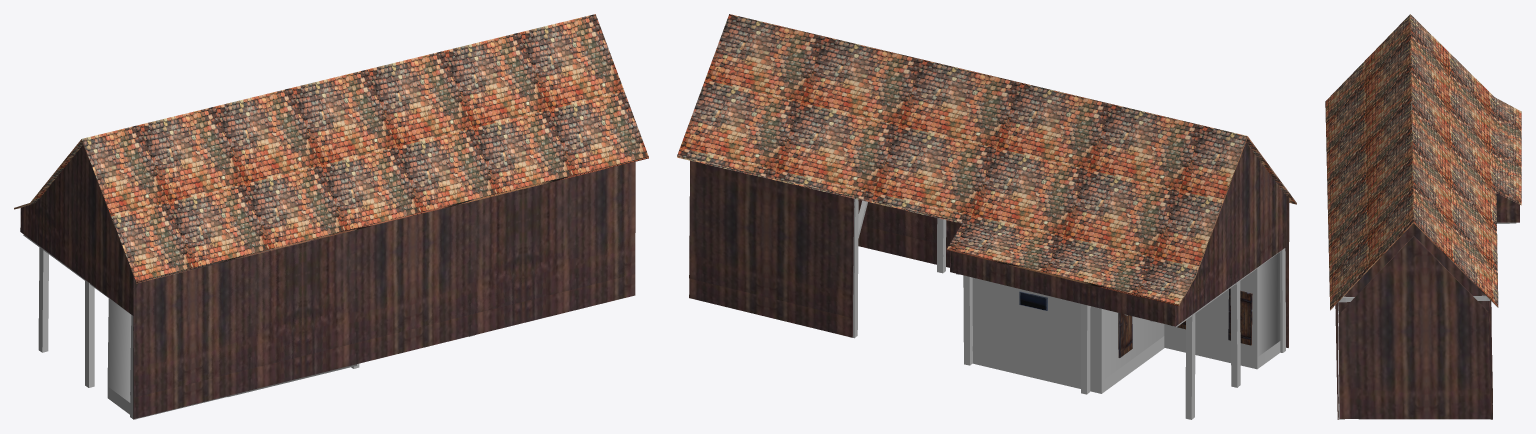
Rendered from SuraFermaHambar.fbx.
3 views of the same model, side by side, from view 1: azimuth 30°, elevation 25°; view 2: azimuth 150°, elevation 25°; view 3: azimuth 270°, elevation 25° (orthographic). The views are drawn at different scales.
Parts seen in each view (by area): view 1: Cube.051, Cube.058, Cube.053, Cube.050, Cube.389, Cube.499; view 2: Cube.052, Cube.448, Cube.053, Cube.507, Cube.050, Cube.058, Cube.499, Cube.389, Cube.388, Cube.010, Cube.459, Cube.390 (+3 smaller); view 3: Cube.720, Cube.052, Cube.051, Cube.053, Cube.448, Cube.058.
Part boxes in pixels (x1=…): Cube.051: x1=81, y1=14, x2=648, y2=283; Cube.058: x1=133, y1=162, x2=635, y2=418; Cube.053: x1=20, y1=145, x2=133, y2=315; Cube.050: x1=107, y1=298, x2=227, y2=417; Cube.389: x1=38, y1=246, x2=48, y2=352; Cube.499: x1=85, y1=280, x2=94, y2=387; Cube.052: x1=677, y1=14, x2=1247, y2=306; Cube.448: x1=689, y1=160, x2=854, y2=337; Cube.053: x1=950, y1=143, x2=1286, y2=326; Cube.507: x1=972, y1=277, x2=1164, y2=393; Cube.050: x1=1164, y1=252, x2=1280, y2=369; Cube.058: x1=858, y1=196, x2=1289, y2=347; Cube.499: x1=1230, y1=280, x2=1240, y2=387; Cube.389: x1=1185, y1=313, x2=1195, y2=419; Cube.388: x1=1081, y1=304, x2=1090, y2=394; Cube.010: x1=1228, y1=288, x2=1252, y2=345; Cube.459: x1=849, y1=199, x2=858, y2=338; Cube.390: x1=963, y1=275, x2=972, y2=348; Cube.720: x1=1338, y1=223, x2=1490, y2=419; Cube.052: x1=1410, y1=14, x2=1521, y2=307; Cube.051: x1=1325, y1=14, x2=1413, y2=310; Cube.053: x1=1410, y1=45, x2=1519, y2=222; Cube.448: x1=1488, y1=300, x2=1492, y2=419; Cube.058: x1=1335, y1=303, x2=1338, y2=419.
Size of the model in its own units: 9971 by 4663 by 4001.
